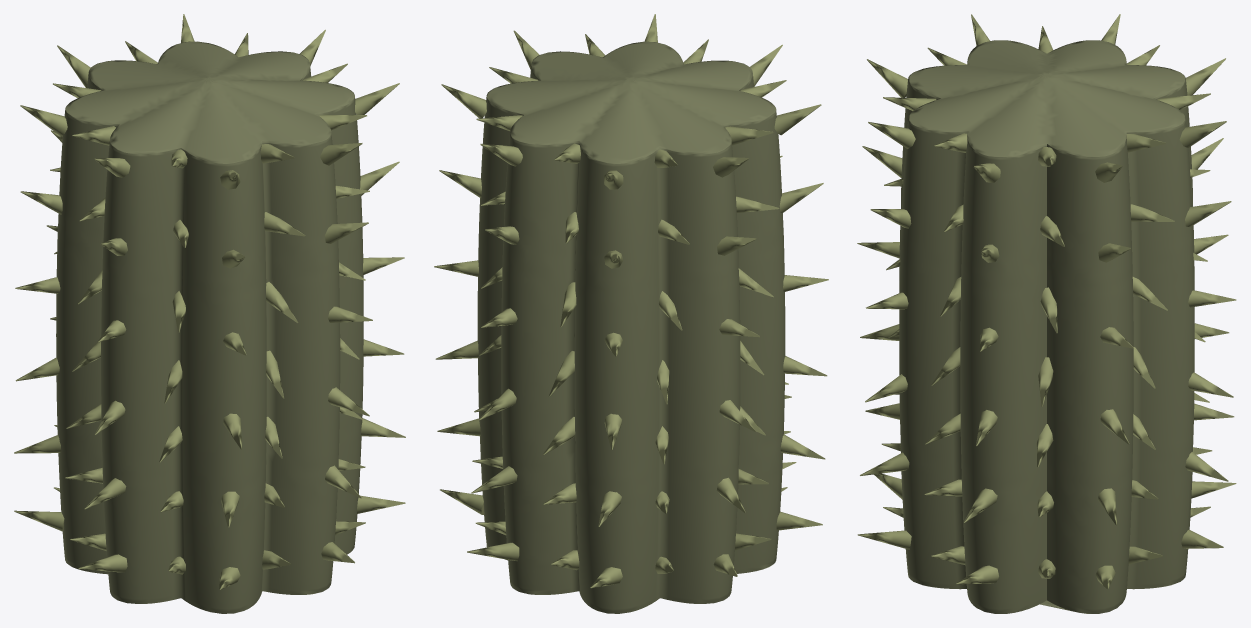
3 renders of one model, left to right at view 1: azimuth 30°, elevation 25°; view 2: azimuth 150°, elevation 25°; view 3: azimuth 270°, elevation 25°, orthographic.
Visible parts, largest first — view 1: Cactus, Glochid (×4); view 2: Cactus, Glochid (×3); view 3: Cactus, Glochid (×9).
Part boxes in pixels (bbox=[...]): Cactus: bbox=[56, 41, 363, 613]; Glochid (×4): bbox=[14, 83, 399, 572]; Cactus: bbox=[477, 41, 785, 613]; Glochid (×3): bbox=[441, 84, 821, 561]; Cactus: bbox=[899, 40, 1194, 613]; Glochid (×9): bbox=[857, 58, 1231, 584].
Size of the model in its own units: 0.0804 by 0.1125 by 0.0804.
